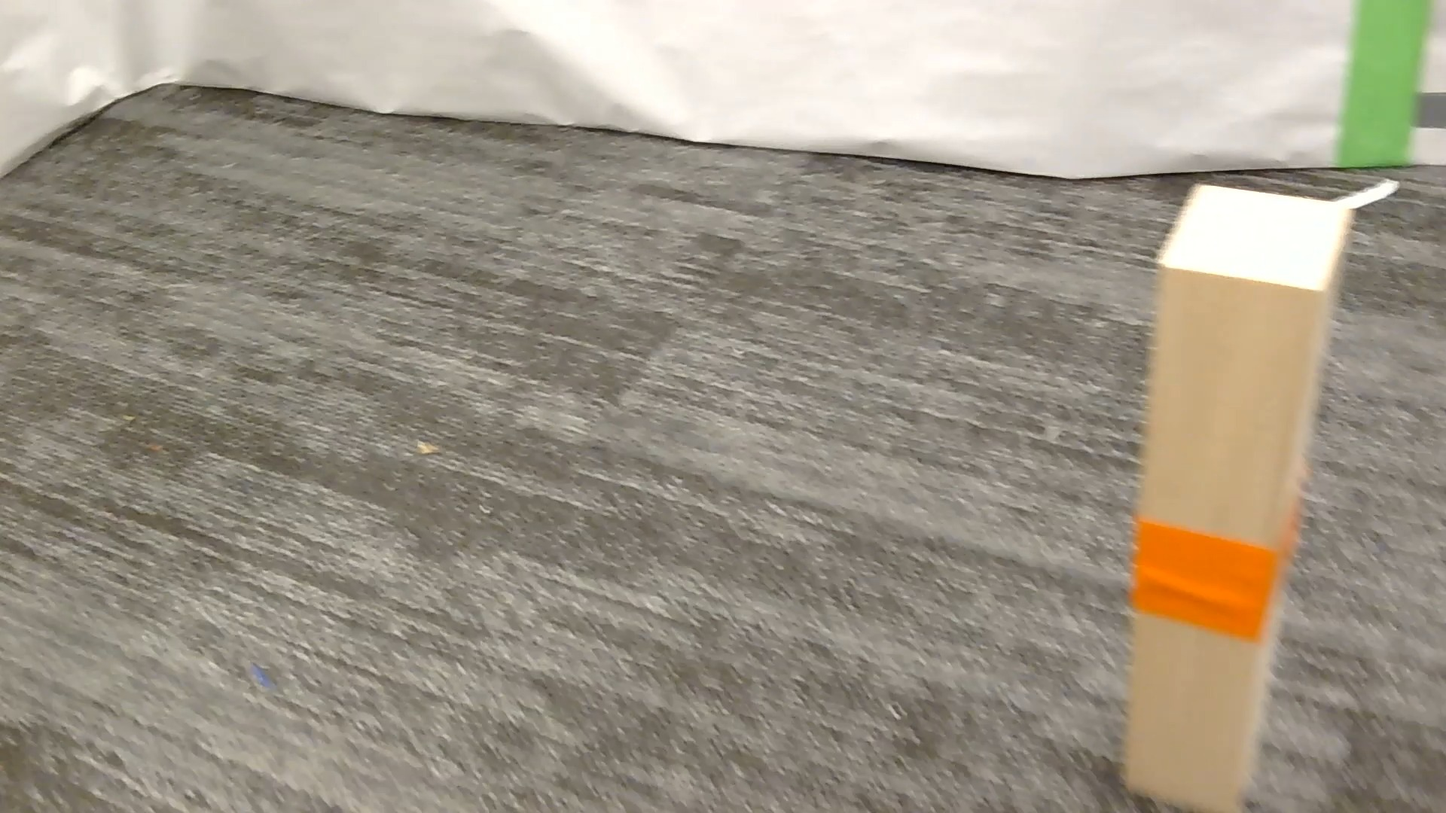Wooden Block: (1124, 186, 1353, 812)
